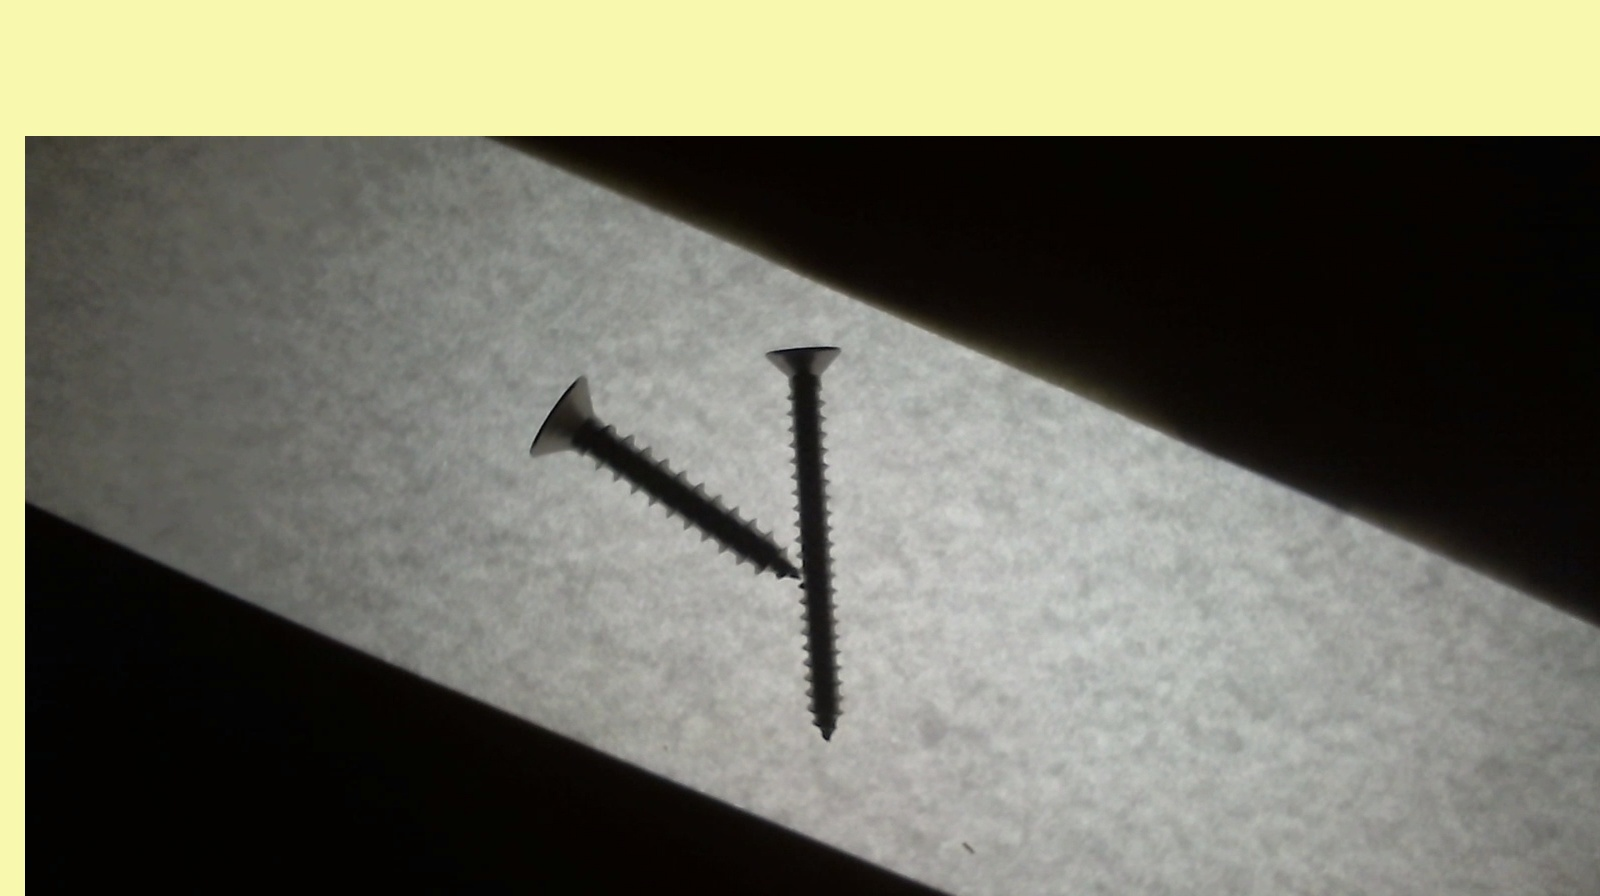S001: (516, 365, 805, 590)
S002: (758, 341, 851, 746)
